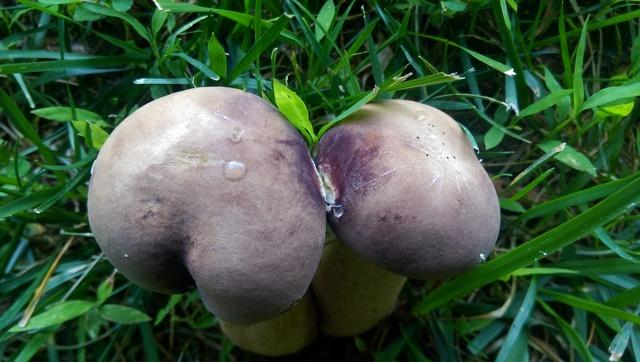Non-edible Mushroom: (85, 84, 327, 324), (311, 97, 501, 280)
